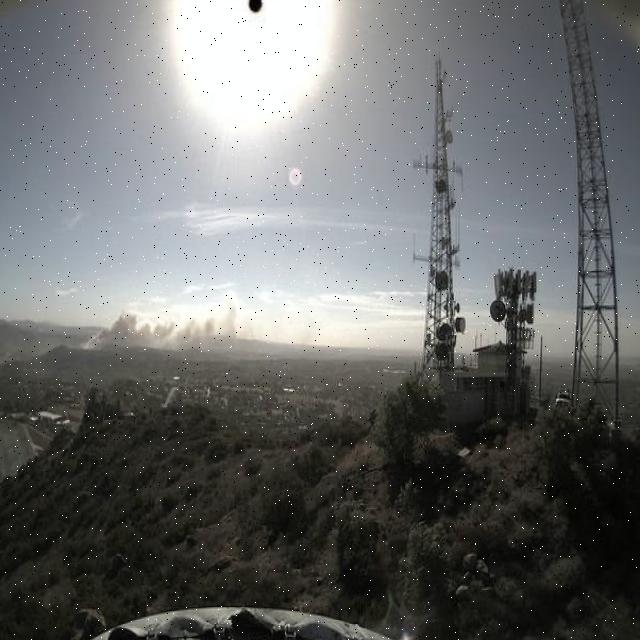smoke: (78, 295, 246, 365)
